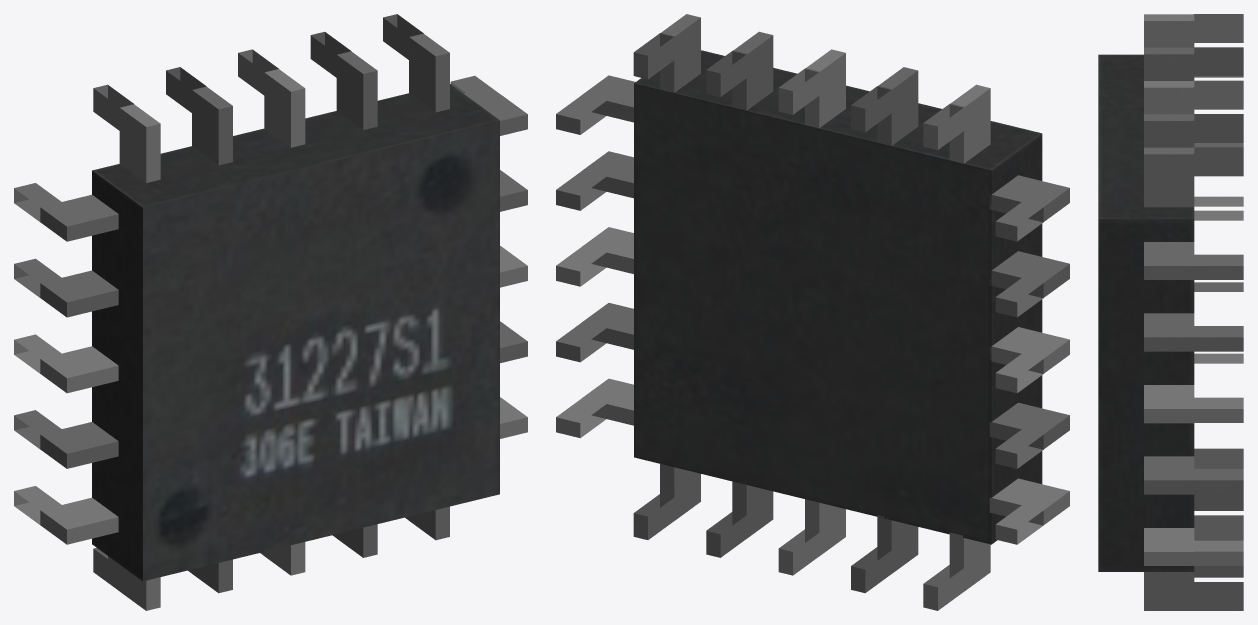
File: ram_chip_square.obj
3 renders of one model, left to right at view 1: azimuth 30°, elevation 25°; view 2: azimuth 150°, elevation 25°; view 3: azimuth 270°, elevation 25°, orthographic. The views are drawn at different scales.
Parts seen in each view (by area): view 1: Object04; view 2: Object04; view 3: Object04.
Boxes of the visible parts, left/top/right/bottom form: Object04: left=14, top=14, right=527, bottom=610; Object04: left=556, top=14, right=1069, bottom=610; Object04: left=1098, top=14, right=1243, bottom=610.
Size of the model in its own units: 25.7 by 25.79 by 7.43.
1 material, 1 textured.
